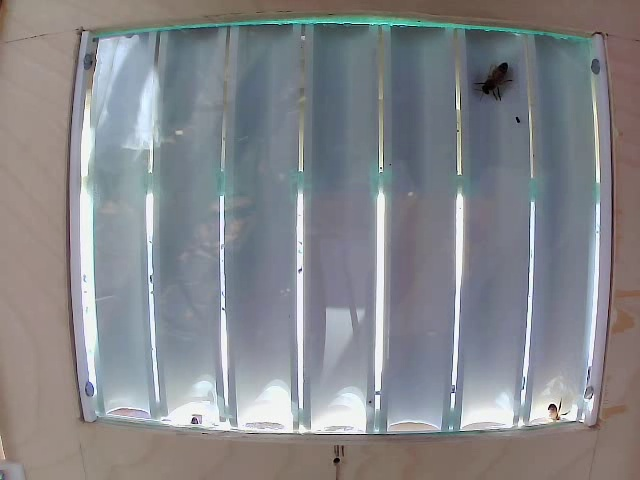bee: (479, 54, 509, 114)
